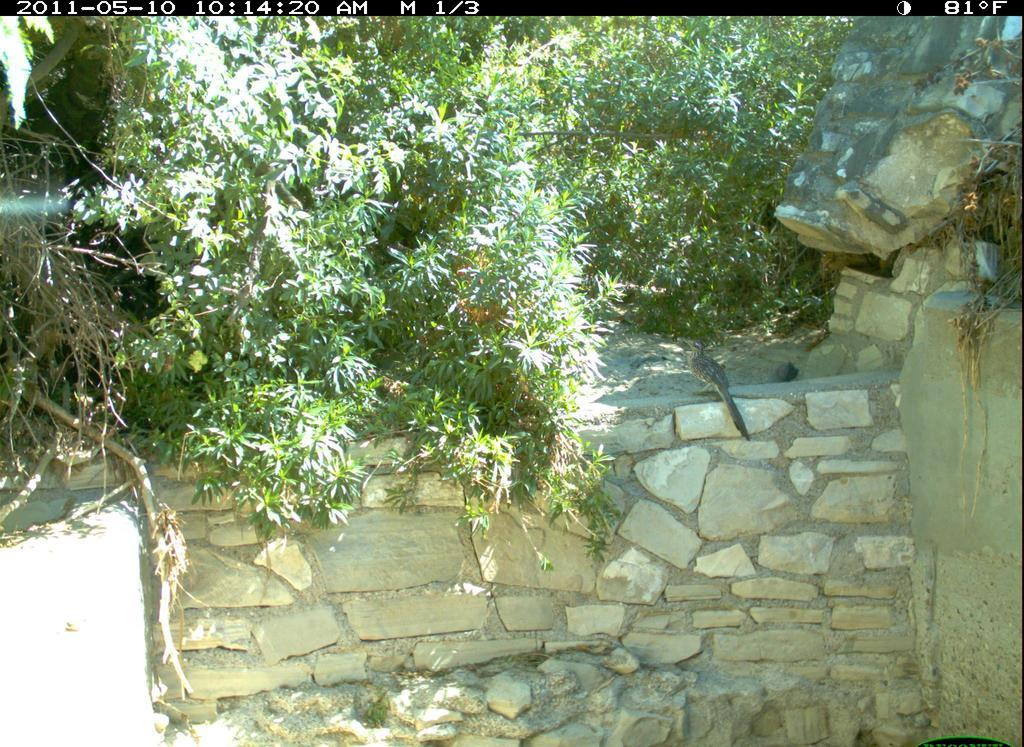bird: (678, 336, 757, 447)
